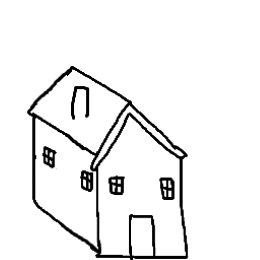bottom_placed_house: (1, 1, 260, 260)
chimney: (63, 81, 96, 122)
closed_window: (104, 170, 132, 202), (156, 173, 178, 204), (76, 166, 96, 198), (39, 144, 60, 170)
door: (123, 210, 162, 260)
roof: (16, 55, 197, 166)
wall: (28, 108, 105, 255)
